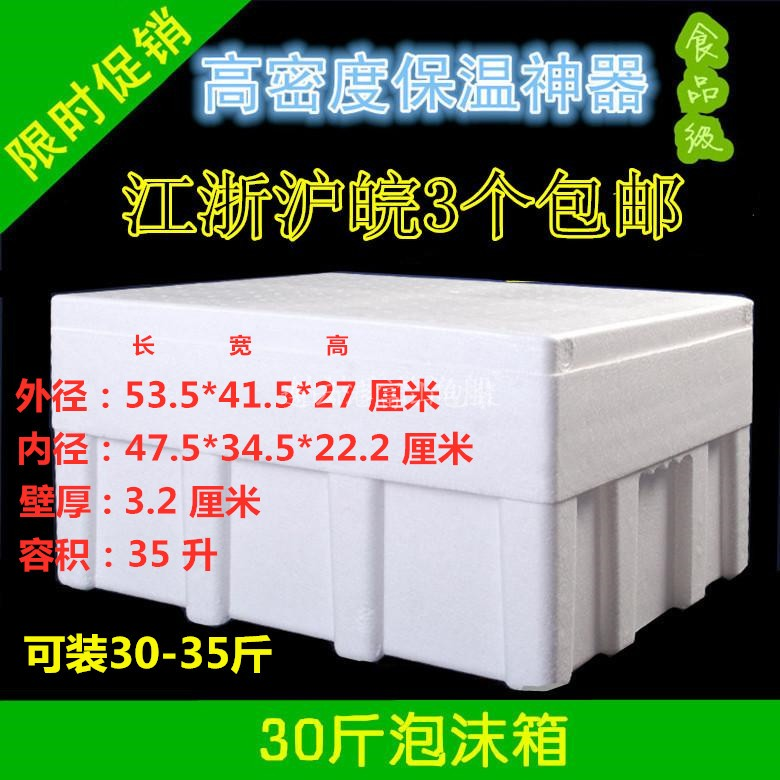Boxes: (52, 274, 751, 689)
